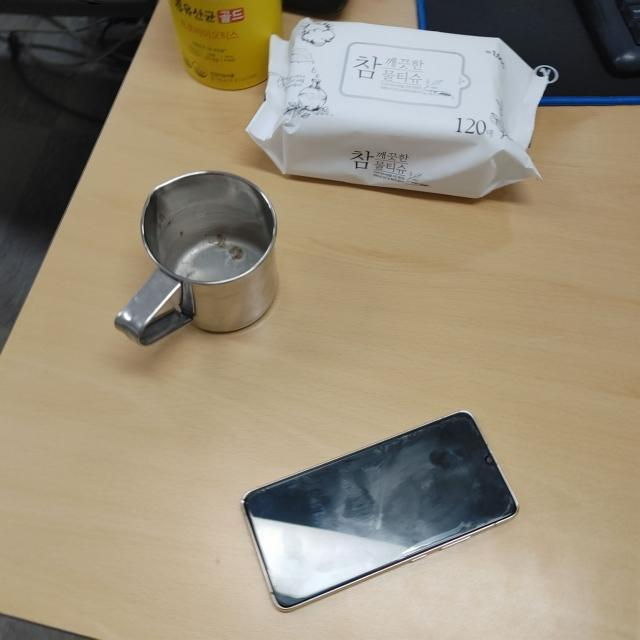cup: (114, 169, 281, 348)
phone: (238, 412, 517, 613)
